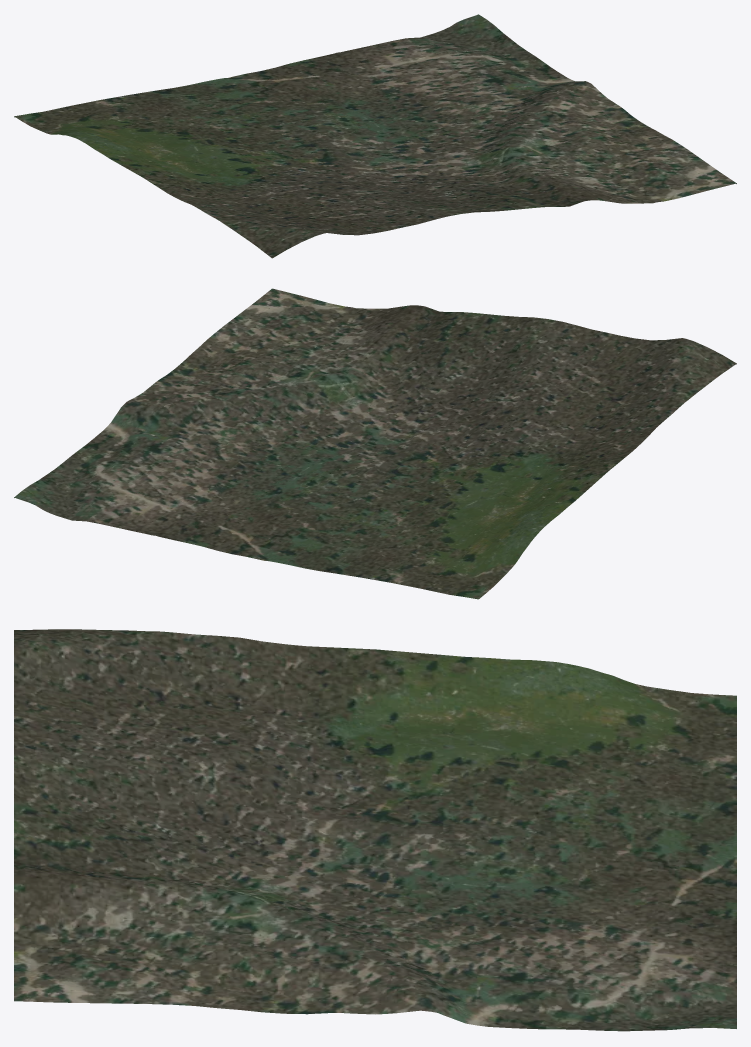
3 renders of one model, top to bottom at view 1: azimuth 30°, elevation 25°; view 2: azimuth 150°, elevation 25°; view 3: azimuth 270°, elevation 25°, orthographic. The views are drawn at different scales.
Bounding box in the file's own units: 500 × 82.83 × 481.
1 material, 1 textured.
